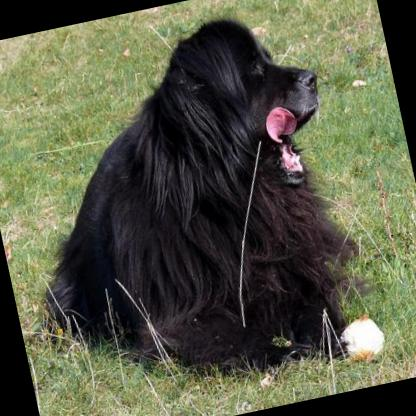Newfoundland: (0, 0, 378, 412)
